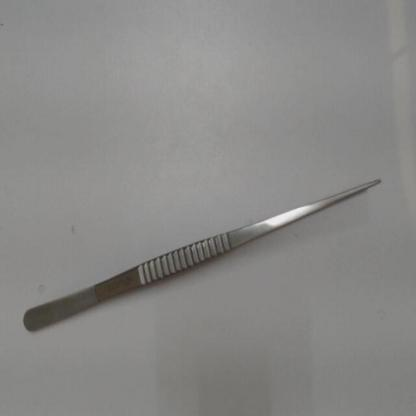DeBakey Dissector: (18, 149, 399, 348)
